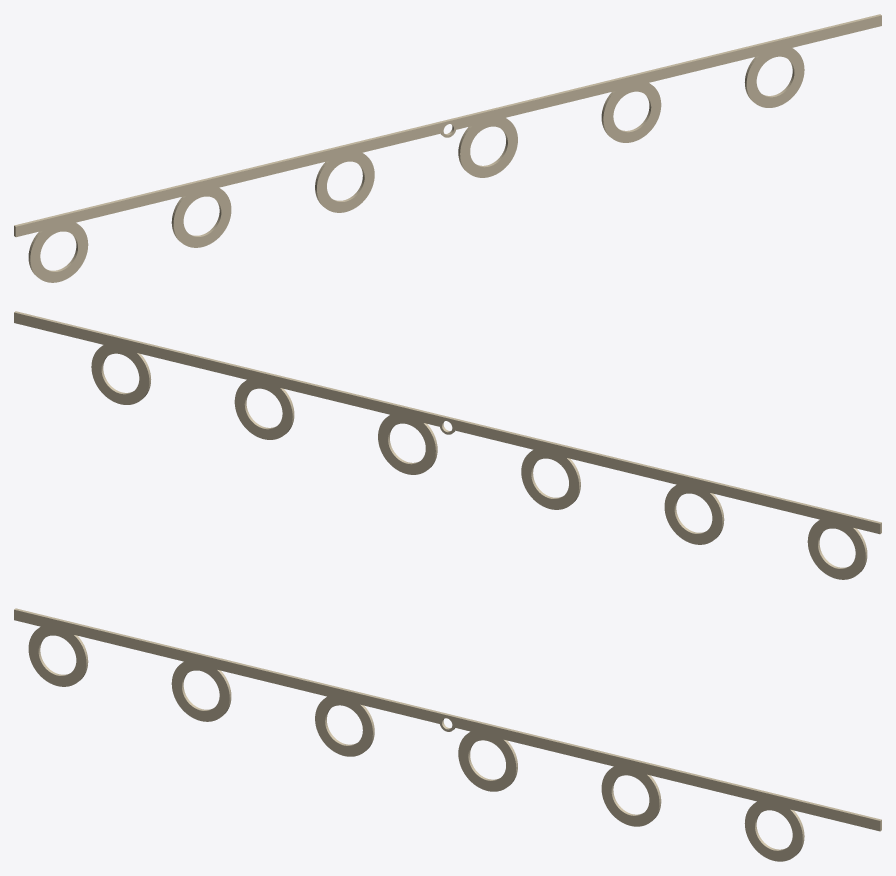
File: efi-head-intake-gasket.glb
3 renders of one model, top to bottom at view 1: azimuth 30°, elevation 25°; view 2: azimuth 150°, elevation 25°; view 3: azimuth 330°, elevation 25°, orthographic.
Parts seen in each view (by area): view 1: world; view 2: world; view 3: world.
Boxes of the visible parts, x1,y1,x2,y2 form: world: [14, 14, 881, 282]; world: [14, 311, 881, 579]; world: [14, 608, 881, 861].
Size of the model in its own units: 0.688 by 0.05 by 0.0025.
